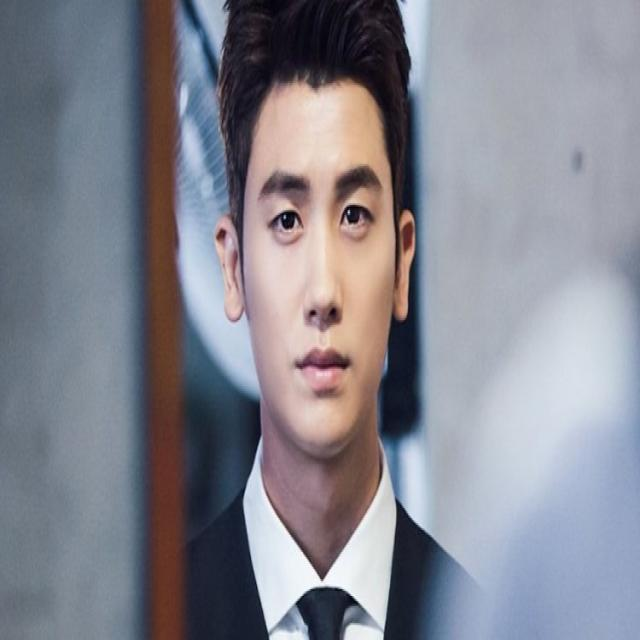human: (203, 0, 489, 640)
